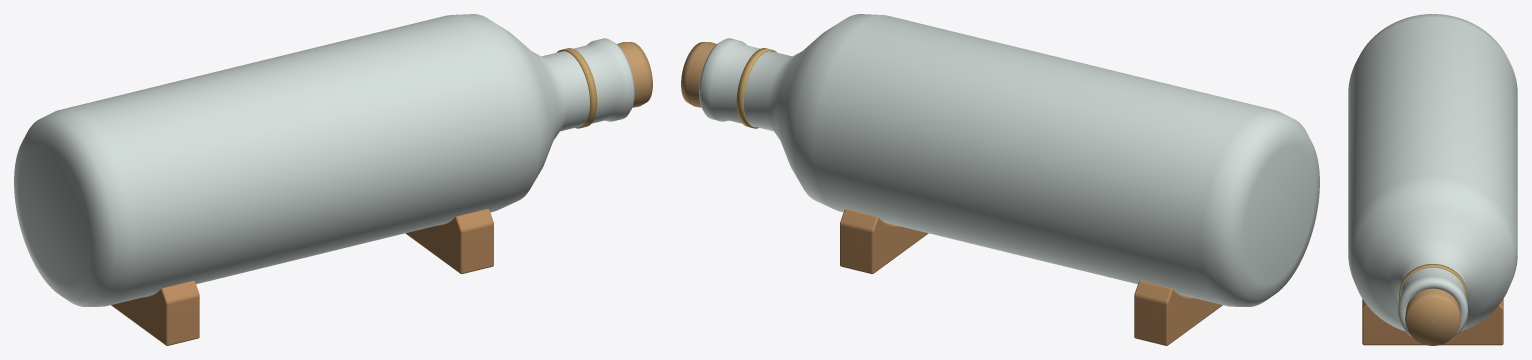
The model's file is sailboat-bottle-v7.fbx.
The picture shows the model from 3 angles, left to right: view 1: azimuth 30°, elevation 25°; view 2: azimuth 150°, elevation 25°; view 3: azimuth 270°, elevation 25°; orthographic projection. The views are drawn at different scales.
Visible parts, largest first — view 1: Bottle | thick transparent glass, Cradle | shaped maple saddle, Cradle | shaped maple saddle.001, Bottle | cork stopper, Bottle | neck brass collar; view 2: Bottle | thick transparent glass, Cradle | shaped maple saddle, Cradle | shaped maple saddle.001, Bottle | cork stopper, Bottle | neck brass collar; view 3: Bottle | thick transparent glass, Cradle | shaped maple saddle.001, Bottle | cork stopper, Bottle | neck brass collar.
Boxes of the visible parts, left/top/right/bottom form: Bottle | thick transparent glass: left=14, top=14, right=634, bottom=306; Cradle | shaped maple saddle: left=111, top=280, right=199, bottom=345; Cradle | shaped maple saddle.001: left=405, top=209, right=493, bottom=273; Bottle | cork stopper: left=617, top=42, right=652, bottom=107; Bottle | neck brass collar: left=557, top=48, right=597, bottom=128; Bottle | thick transparent glass: left=699, top=14, right=1319, bottom=306; Cradle | shaped maple saddle: left=1134, top=280, right=1222, bottom=345; Cradle | shaped maple saddle.001: left=840, top=209, right=928, bottom=273; Bottle | cork stopper: left=681, top=42, right=716, bottom=107; Bottle | neck brass collar: left=736, top=48, right=776, bottom=128; Bottle | thick transparent glass: left=1348, top=14, right=1517, bottom=336; Cradle | shaped maple saddle.001: left=1362, top=299, right=1503, bottom=345; Bottle | cork stopper: left=1405, top=288, right=1460, bottom=345; Bottle | neck brass collar: left=1399, top=264, right=1466, bottom=299.
Bounding box in the file's own units: 188 × 64.7 × 56.4.
